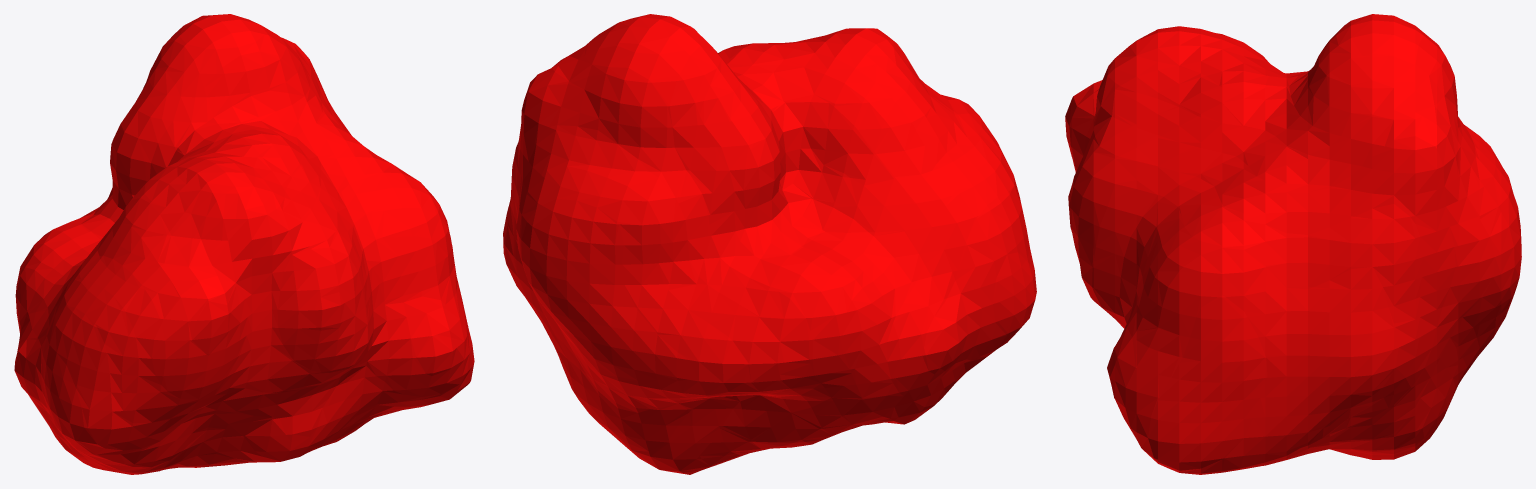
File: ybaK_coarse.dae
3 views of the same model, side by side, from view 1: azimuth 30°, elevation 25°; view 2: azimuth 150°, elevation 25°; view 3: azimuth 270°, elevation 25° (orthographic). The views are drawn at different scales.
Parts seen in each view (by area): view 1: ybaK; view 2: ybaK; view 3: ybaK.
Boxes of the visible parts, <box> form: ybaK: <box>14,14,474,474</box>; ybaK: <box>503,14,1036,474</box>; ybaK: <box>1065,14,1521,474</box>.
Size of the model in its own units: 44.32 by 41.91 by 38.67.
